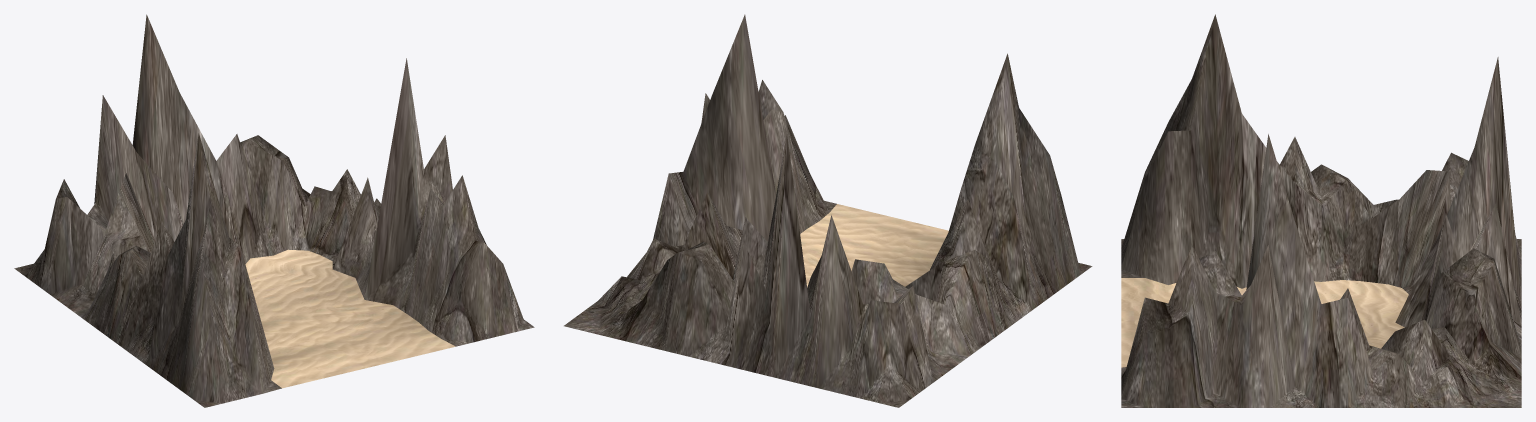
Rendered from endroad.fbx.
3 renders of one model, left to right at view 1: azimuth 30°, elevation 25°; view 2: azimuth 150°, elevation 25°; view 3: azimuth 270°, elevation 25°, orthographic. The views are drawn at different scales.
Parts seen in each view (by area): view 1: endroad; view 2: endroad; view 3: endroad.
Boxes of the visible parts, bbox=[...] form: endroad: bbox=[14, 14, 534, 407]; endroad: bbox=[564, 14, 1092, 407]; endroad: bbox=[1121, 14, 1521, 407].
Bounding box in the file's own units: 500 × 337 × 500.
